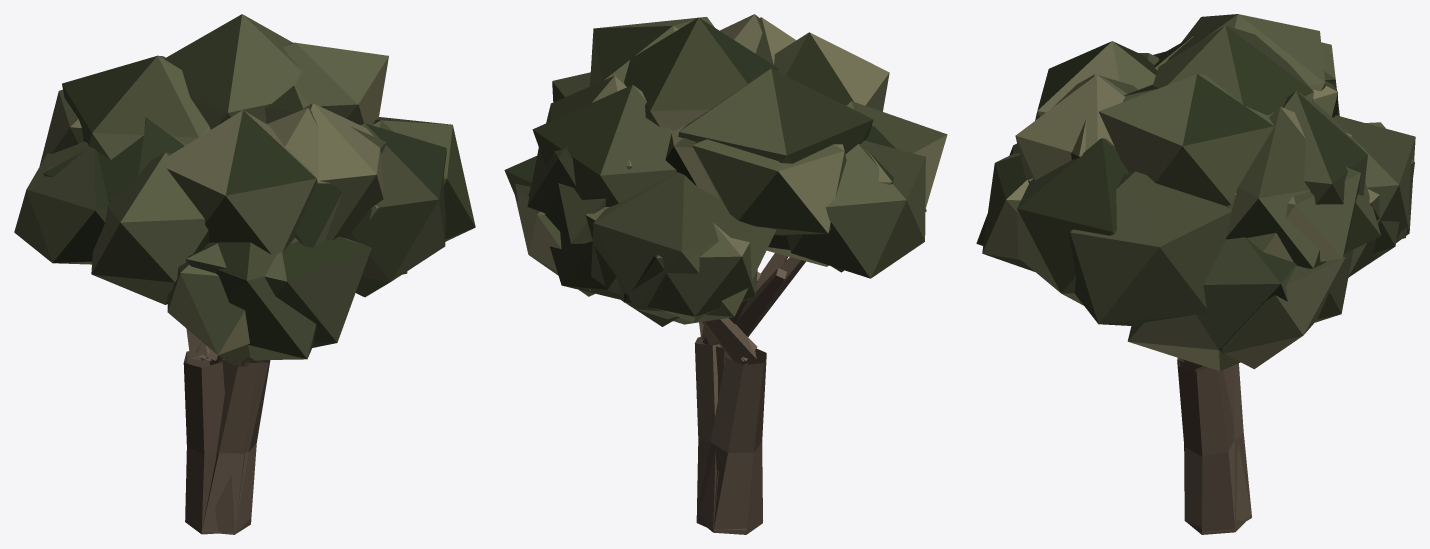
The model's file is oak-coast-live-young.glb.
The picture shows the model from 3 angles, left to right: view 1: azimuth 30°, elevation 25°; view 2: azimuth 150°, elevation 25°; view 3: azimuth 270°, elevation 25°; orthographic projection.
Visible parts, largest first — view 1: oak-coast-live-young_v2_LOD0, oak-coast-live-young_v0_LOD0, oak-coast-live-young_v1_LOD0; view 2: oak-coast-live-young_v0_LOD0, oak-coast-live-young_v2_LOD0, oak-coast-live-young_v1_LOD0; view 3: oak-coast-live-young_v1_LOD0, oak-coast-live-young_v2_LOD0, oak-coast-live-young_v0_LOD0.
Boxes of the visible parts, x1,y1,x2,y2 form: oak-coast-live-young_v2_LOD0: (62, 55, 446, 534); oak-coast-live-young_v0_LOD0: (14, 14, 378, 534); oak-coast-live-young_v1_LOD0: (43, 42, 475, 534); oak-coast-live-young_v0_LOD0: (532, 17, 926, 534); oak-coast-live-young_v2_LOD0: (504, 14, 947, 530); oak-coast-live-young_v1_LOD0: (515, 17, 895, 529); oak-coast-live-young_v1_LOD0: (976, 36, 1407, 534); oak-coast-live-young_v2_LOD0: (982, 14, 1415, 533); oak-coast-live-young_v0_LOD0: (1028, 25, 1414, 528).
Size of what is drawn, in the model's own units: 4.62 by 5.68 by 4.42.
